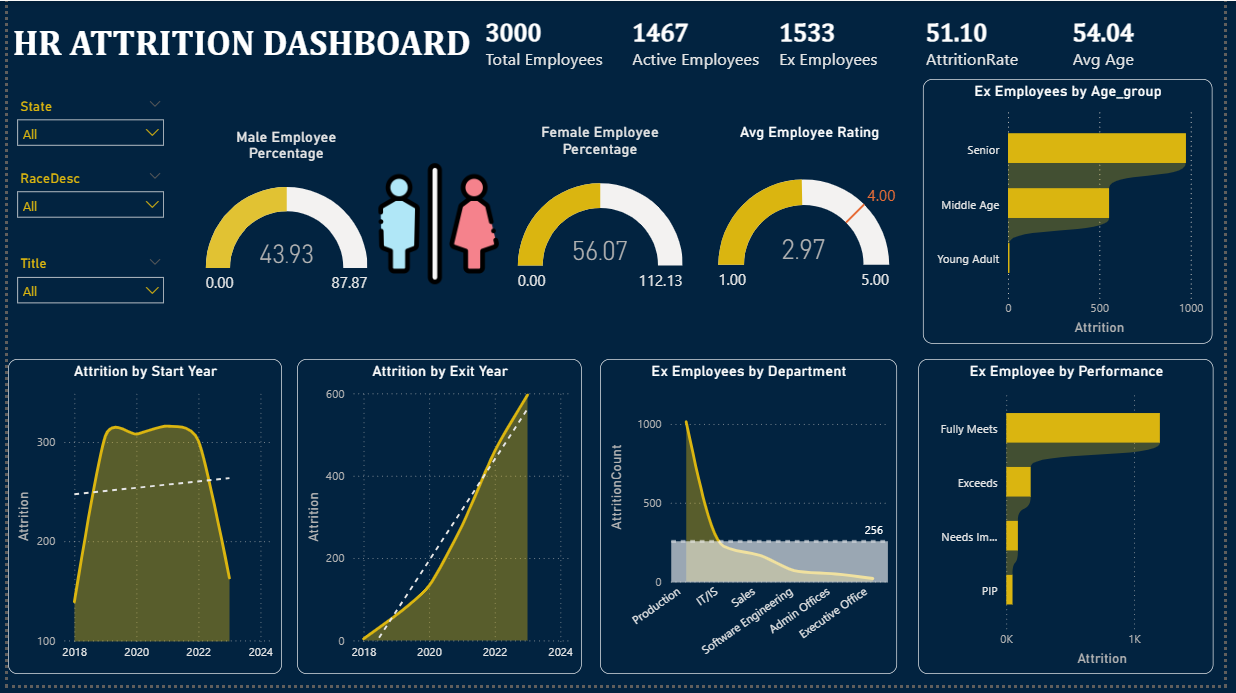

Layout of this report page (visuals, bound fields, positions):
{"tool":"powerbi","page":{"name":"Attrition","canvas":[1280,720],"ordinal":0},"visuals":[{"type":"multiRowCard","fields":{"Values":["CountNonNull(employee_data.EmpID)","employee_data.ActiveEmployees","employee_data.AttritionCount","employee_data.AttritionRate","Avg(employee_data.Age)"]},"box":[497.4,16.1,782.4,62.8],"z":0},{"type":"areaChart","title":"Ex Employees by Department","fields":{"Category":["employee_data.DepartmentType"],"Y":["employee_data.AttritionCount"]},"box":[623,376.7,312.3,331.6],"z":1000},{"type":"gauge","title":"Male Employee Percentage","fields":{"Y":["employee_data.MalePercentage"]},"box":[202.8,133.6,180.3,204.4],"z":2000},{"type":"barChart","title":"Ex Employees by Age_group","fields":{"Category":["employee_data.Age_group"],"Y":["employee_data.AttritionCount"]},"box":[962.6,82.1,304.2,278.5],"z":3000},{"type":"barChart","title":"Ex Employee by Performance","fields":{"Category":["employee_data.Performance_Score"],"Y":["employee_data.AttritionCount"]},"box":[957.8,376.7,310.7,331.6],"z":4000},{"type":"textbox","box":[0,16.1,531.2,62.8],"z":5000},{"type":"image","box":[383.1,170.6,140.1,127.2],"z":6000},{"type":"gauge","title":"Female Employee Percentage","fields":{"Y":["employee_data.FemalePercentage"]},"box":[531.2,128.8,183.5,207.7],"z":7000},{"type":"gauge","title":"Avg Employee Rating","fields":{"Y":["employee_data.AvgEmployeeRating"]},"box":[742.1,128.8,202.8,220.5],"z":8000},{"type":"lineChart","title":"Attrition by Exit Year","fields":{"Category":["employee_data.ExitYear"],"Y":["employee_data.AttritionCount"]},"box":[304.2,376.7,299.4,331.6],"z":9000},{"type":"slicer","fields":{"Values":["employee_data.State"]},"box":[0,96.6,173.9,75.7],"z":10000},{"type":"slicer","fields":{"Values":["employee_data.RaceDesc"]},"box":[0,172.2,173.9,75.7],"z":11000},{"type":"slicer","fields":{"Values":["employee_data.Title"]},"box":[0,262.4,173.9,75.7],"z":12000},{"type":"lineChart","title":"Attrition by Start Year","fields":{"Y":["employee_data.AttritionCount"],"Category":["employee_data.StartYear"]},"box":[0,376.7,288.2,331.6],"z":13000}]}

Visuals, with their boxes in screenshot pixels (x1, y1, x2, y2), scaled from the page's 1280x720 canvas onto the 1236x693 screenshot:
multiRowCard - CountNonNull(employee_data.EmpID) x employee_data.ActiveEmployees: l=480, t=15, r=1235, b=76
"Ex Employees by Department" areaChart: l=602, t=363, r=903, b=682
"Male Employee Percentage" gauge: l=196, t=129, r=370, b=325
"Ex Employees by Age_group" barChart: l=930, t=79, r=1223, b=347
"Ex Employee by Performance" barChart: l=925, t=363, r=1225, b=682
textbox: l=0, t=15, r=513, b=76
image: l=370, t=164, r=505, b=287
"Female Employee Percentage" gauge: l=513, t=124, r=690, b=324
"Avg Employee Rating" gauge: l=717, t=124, r=912, b=336
"Attrition by Exit Year" lineChart: l=294, t=363, r=583, b=682
slicer - employee_data.State: l=0, t=93, r=168, b=166
slicer - employee_data.RaceDesc: l=0, t=166, r=168, b=239
slicer - employee_data.Title: l=0, t=253, r=168, b=325
"Attrition by Start Year" lineChart: l=0, t=363, r=278, b=682
